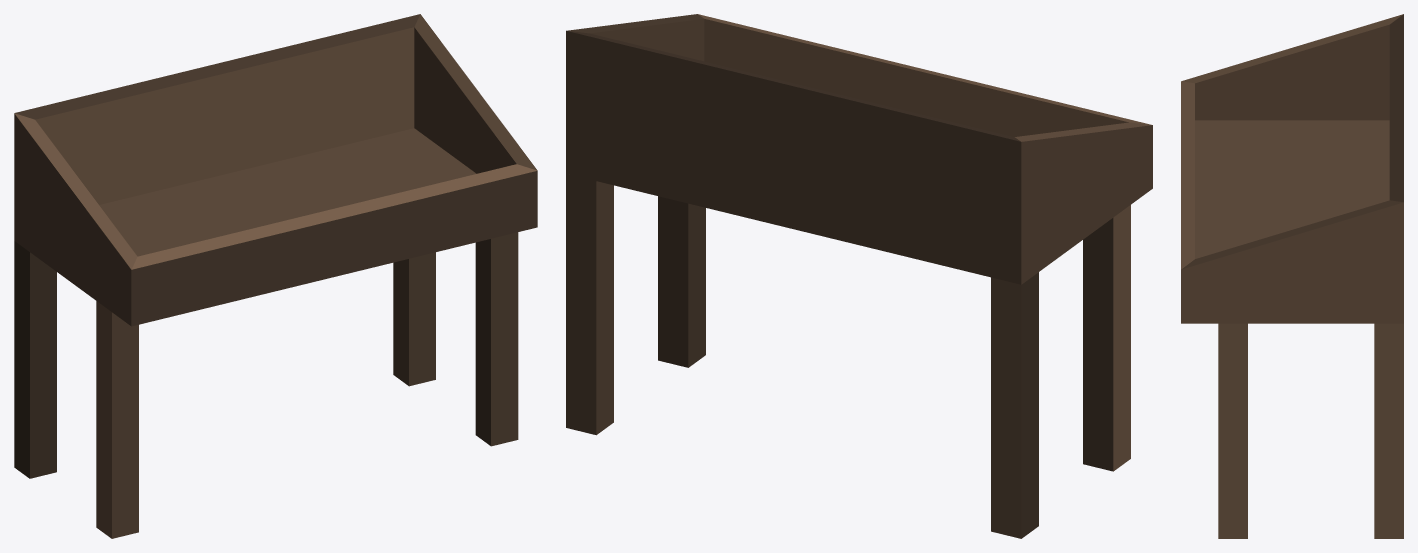
Rendered from Prop_MerchantTableA.fbx.
3 renders of one model, left to right at view 1: azimuth 30°, elevation 25°; view 2: azimuth 150°, elevation 25°; view 3: azimuth 270°, elevation 25°, orthographic. The views are drawn at different scales.
Visible parts, largest first — view 1: Prop_MerchantTableA; view 2: Prop_MerchantTableA; view 3: Prop_MerchantTableA.
Boxes of the visible parts, left/top/right/bottom form: Prop_MerchantTableA: left=14, top=14, right=537, bottom=538; Prop_MerchantTableA: left=566, top=14, right=1152, bottom=538; Prop_MerchantTableA: left=1181, top=14, right=1403, bottom=538.
Bounding box in the file's own units: 150 × 125 × 75.
